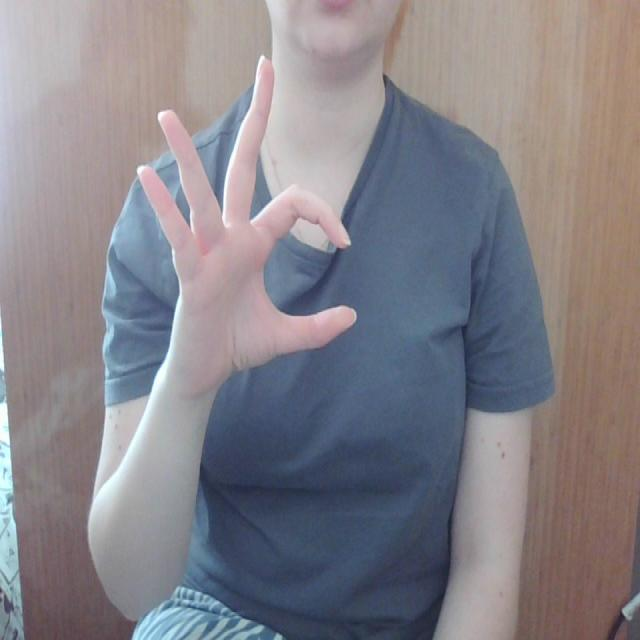Tuvalet: (129, 52, 356, 366)
